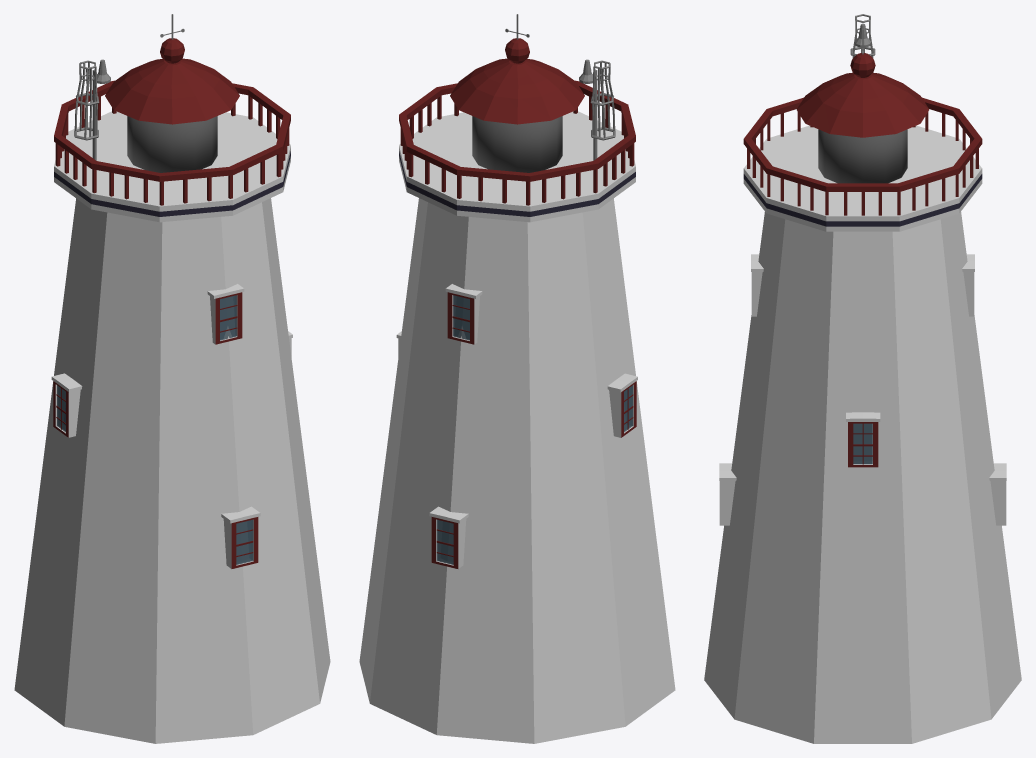
Rendered from Miscou Island Lighthouse.fbx.
3 views of the same model, side by side, from view 1: azimuth 30°, elevation 25°; view 2: azimuth 150°, elevation 25°; view 3: azimuth 270°, elevation 25° (orthographic).
Parts seen in each view (by area): view 1: Miscou Island Lighthouse; view 2: Miscou Island Lighthouse; view 3: Miscou Island Lighthouse.
Boxes of the visible parts, <box> form: Miscou Island Lighthouse: <box>14,14,330,743</box>; Miscou Island Lighthouse: <box>359,14,675,743</box>; Miscou Island Lighthouse: <box>704,14,1021,743</box>.
Size of the model in its own units: 6.35 by 15.09 by 6.68.
